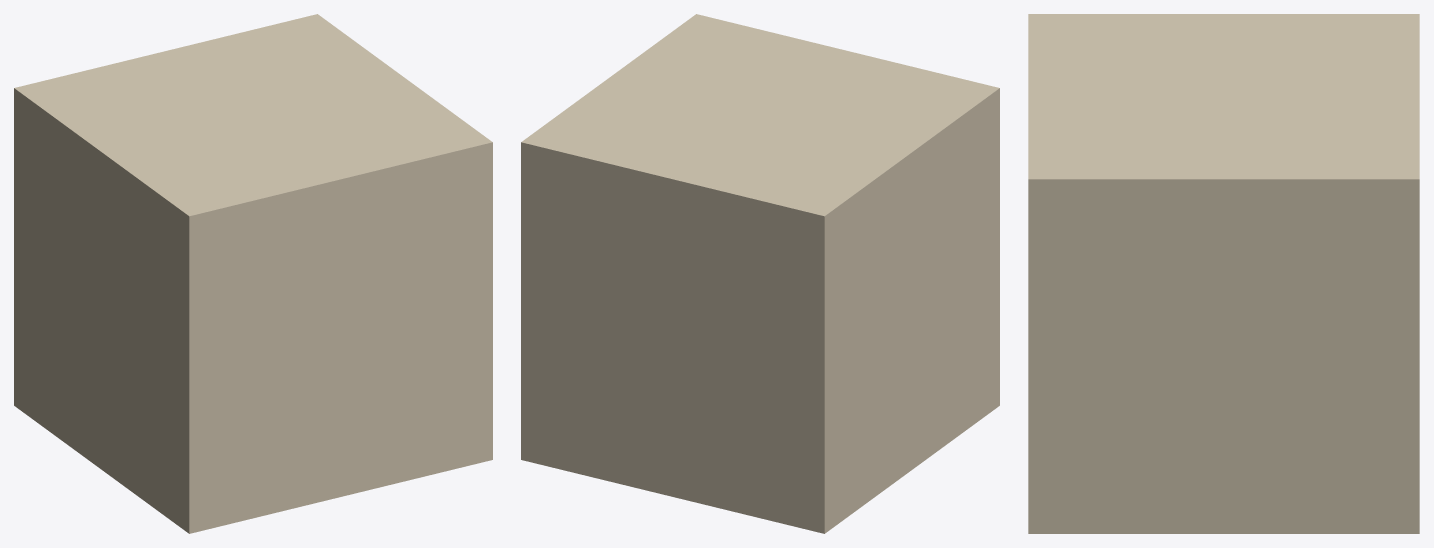
The model's file is FacadeKit_LimestonePanel_LOD1.glb.
3 views of the same model, side by side, from view 1: azimuth 30°, elevation 25°; view 2: azimuth 150°, elevation 25°; view 3: azimuth 270°, elevation 25° (orthographic). The views are drawn at different scales.
Visible parts, largest first — view 1: FacadeKit_LimestonePanel_LOD1; view 2: FacadeKit_LimestonePanel_LOD1; view 3: FacadeKit_LimestonePanel_LOD1.
Boxes of the visible parts, x1,y1,x2,y2 form: FacadeKit_LimestonePanel_LOD1: (14,14,492,533); FacadeKit_LimestonePanel_LOD1: (521,14,999,533); FacadeKit_LimestonePanel_LOD1: (1028,14,1419,533).
Size of the model in its own units: 1 by 1 by 1.
